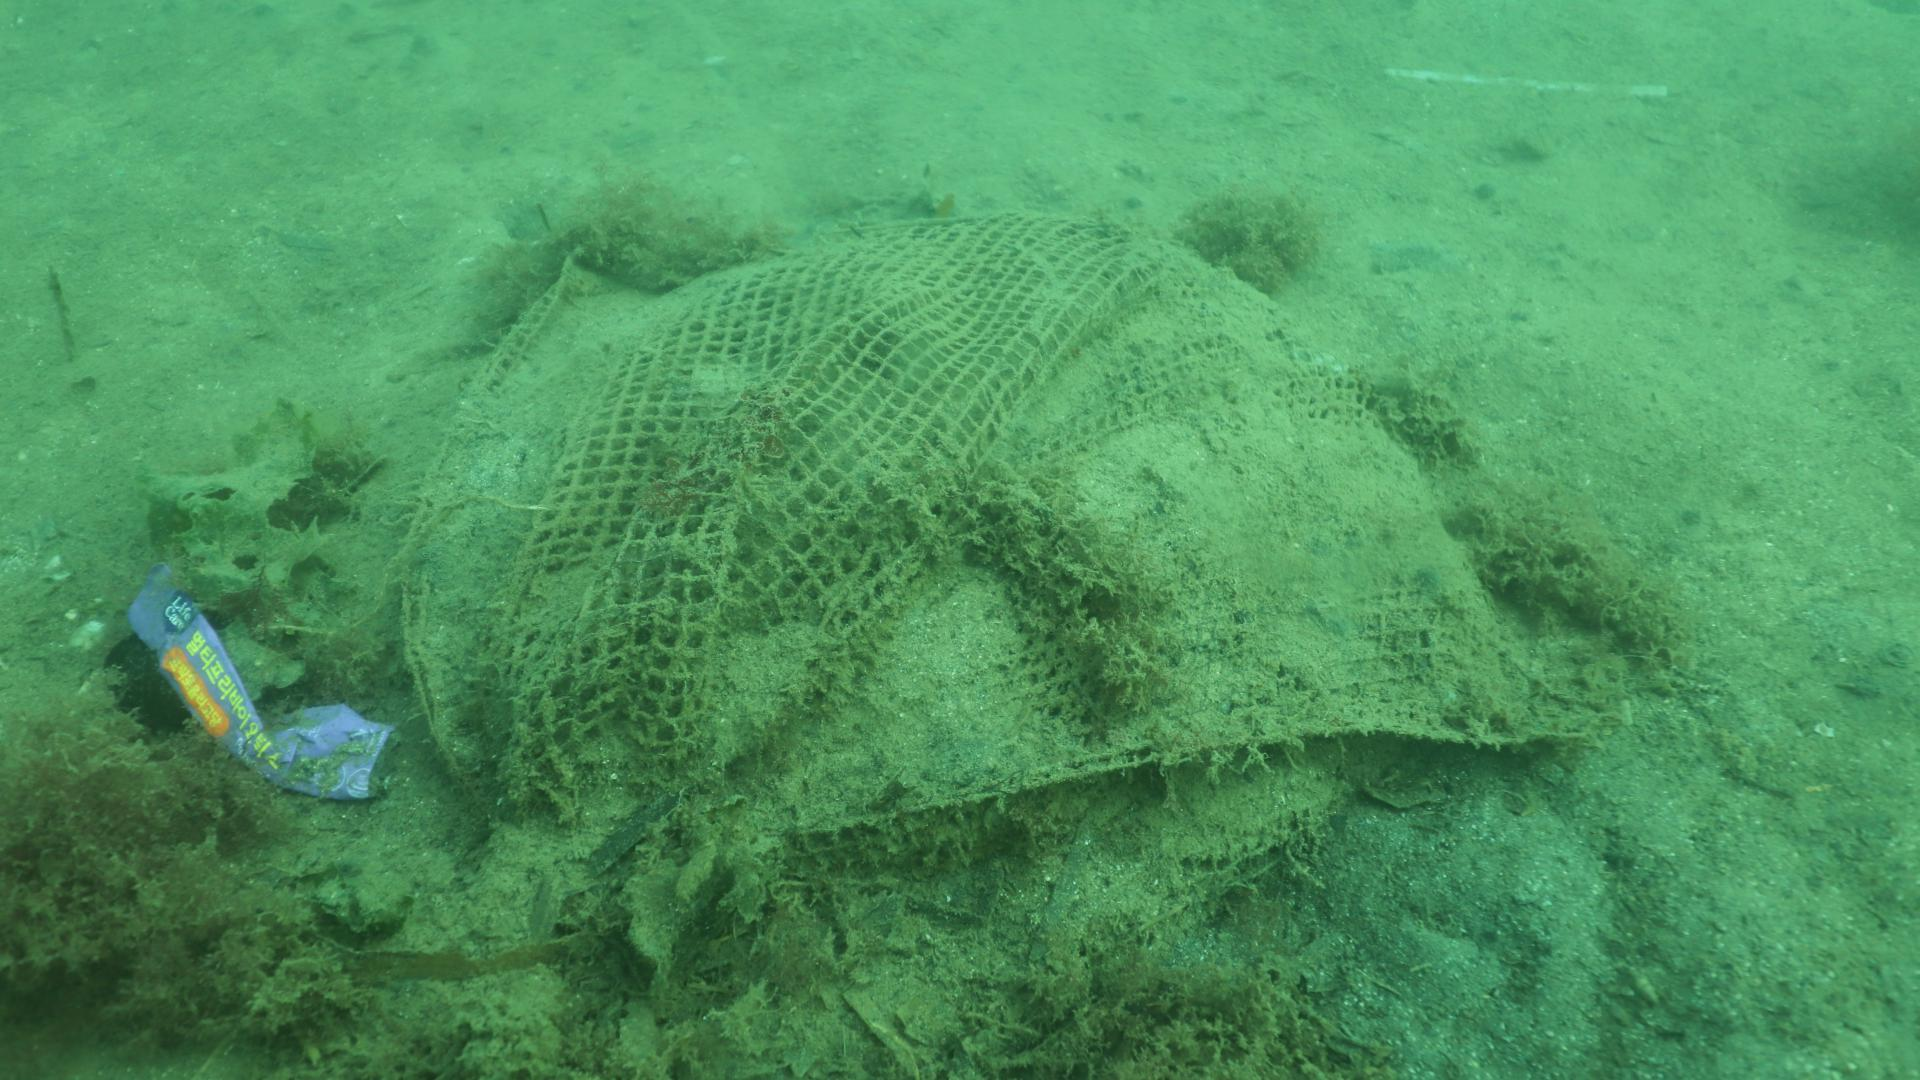fish net: (400, 207, 1576, 872)
